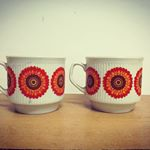cups: (68, 54, 146, 115), (1, 55, 67, 116)
